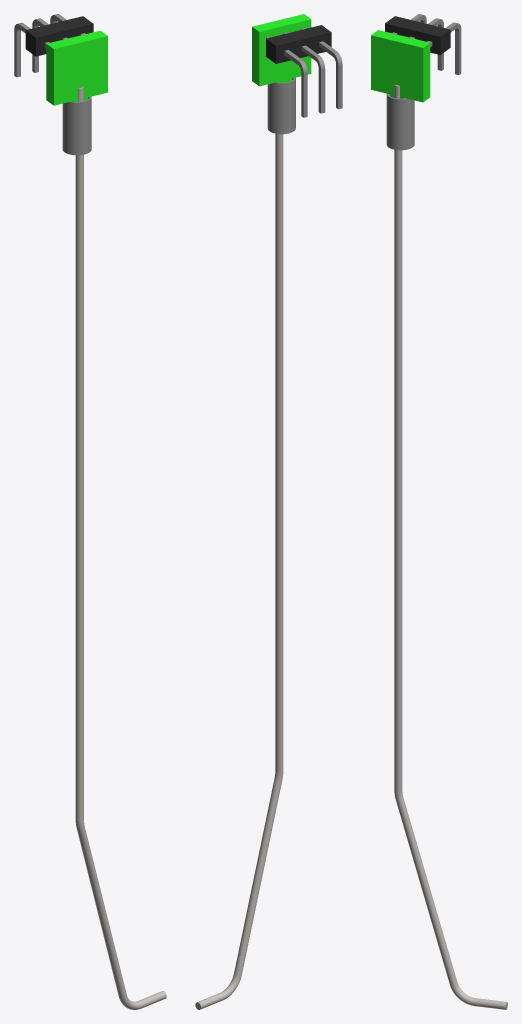
The model's file is modal16.fbx.
3 views of the same model, side by side, from view 1: azimuth 30°, elevation 25°; view 2: azimuth 210°, elevation 25°; view 3: azimuth 330°, elevation 25° (orthographic). The views are drawn at different scales.
Parts seen in each view (by area): view 1: 扫描1 (×2), 切除-拉伸1, 拉伸-薄壁1, 凸台-拉伸1; view 2: 扫描1 (×4), 切除-拉伸1, 凸台-拉伸1, 拉伸-薄壁1; view 3: 扫描1 (×2), 切除-拉伸1, 拉伸-薄壁1, 凸台-拉伸1.
Boxes of the visible parts, box(x1,y1,x2,y2) form: 扫描1 (×2): box(14, 22, 166, 1009); 切除-拉伸1: box(46, 30, 107, 105); 拉伸-薄壁1: box(62, 96, 91, 155); 凸台-拉伸1: box(25, 16, 93, 56); 扫描1 (×4): box(195, 28, 342, 1009); 切除-拉伸1: box(252, 14, 311, 86); 凸台-拉伸1: box(266, 25, 331, 63); 拉伸-薄壁1: box(267, 77, 295, 134); 扫描1 (×2): box(394, 22, 507, 1009); 切除-拉伸1: box(371, 30, 430, 102); 拉伸-薄壁1: box(386, 93, 414, 150); 凸台-拉伸1: box(385, 16, 450, 54).
Size of the model in its own units: 1.78 by 13.15 by 1.2.
